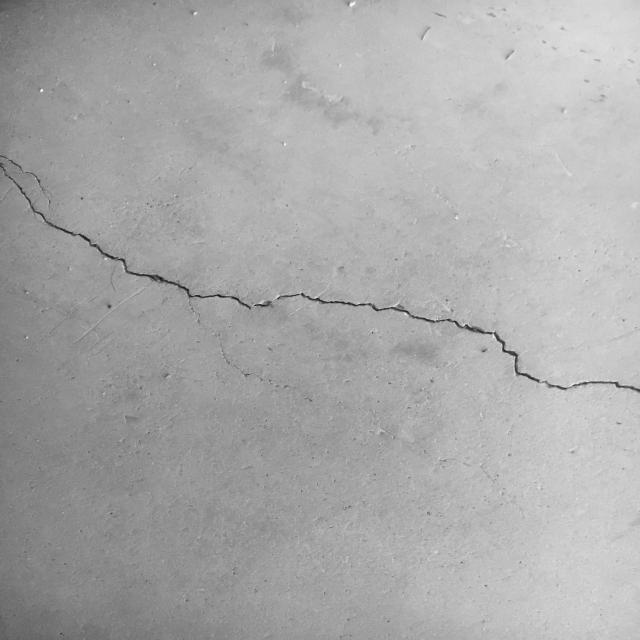SurfaceCrack: (0, 115, 639, 440)
